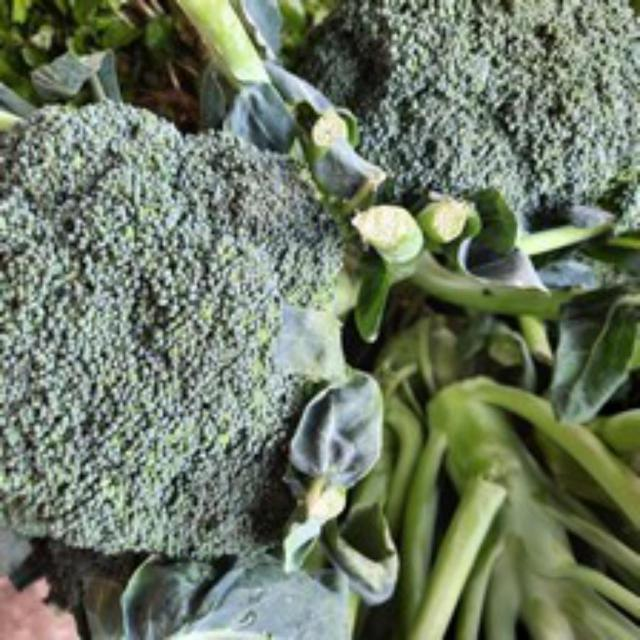broccoli: (0, 73, 382, 556)
